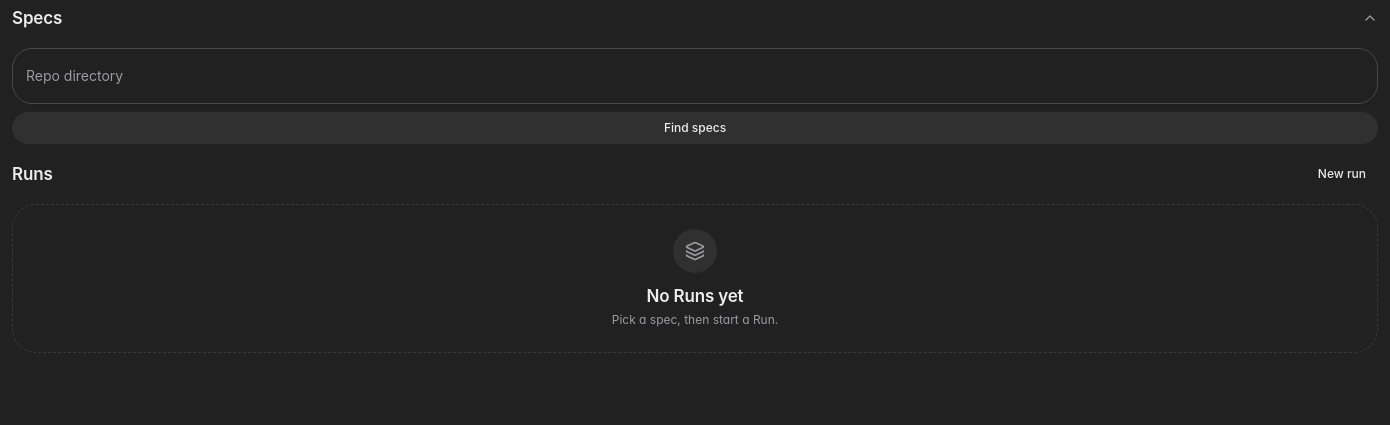
Scenario: RunsSidebar spec discovery › finds specs from the repo form
Type "/repo" into the field labelled "Repo directory". click: (695, 76)
box: x1=12 y1=48 x2=1378 y2=104
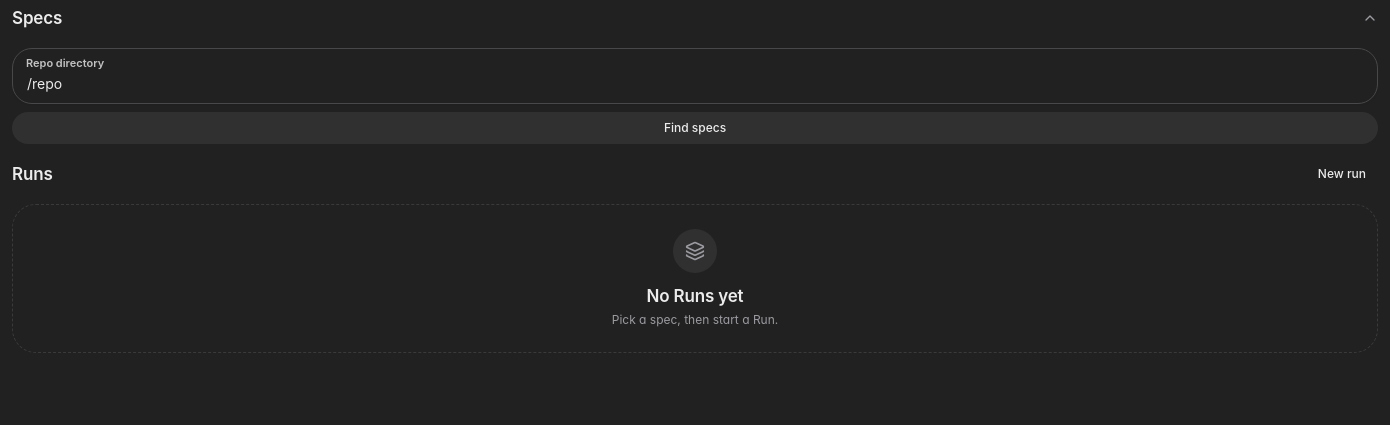
Click the button "Find specs". click: (695, 128)
box: x1=12 y1=112 x2=1378 y2=144
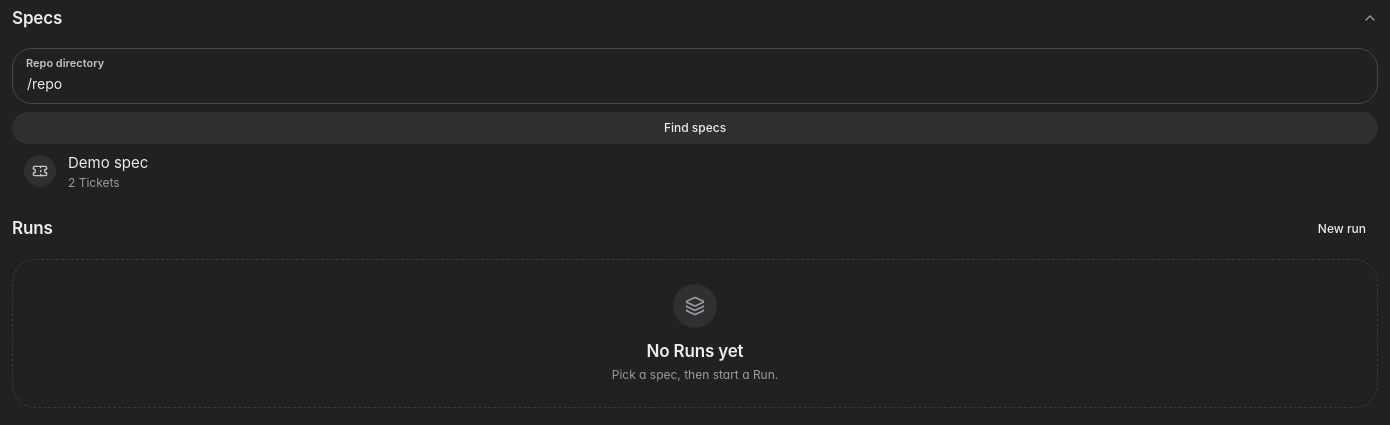
Expected: the text "Demo spec" is shown, x1=68 y1=152 x2=148 y2=174
